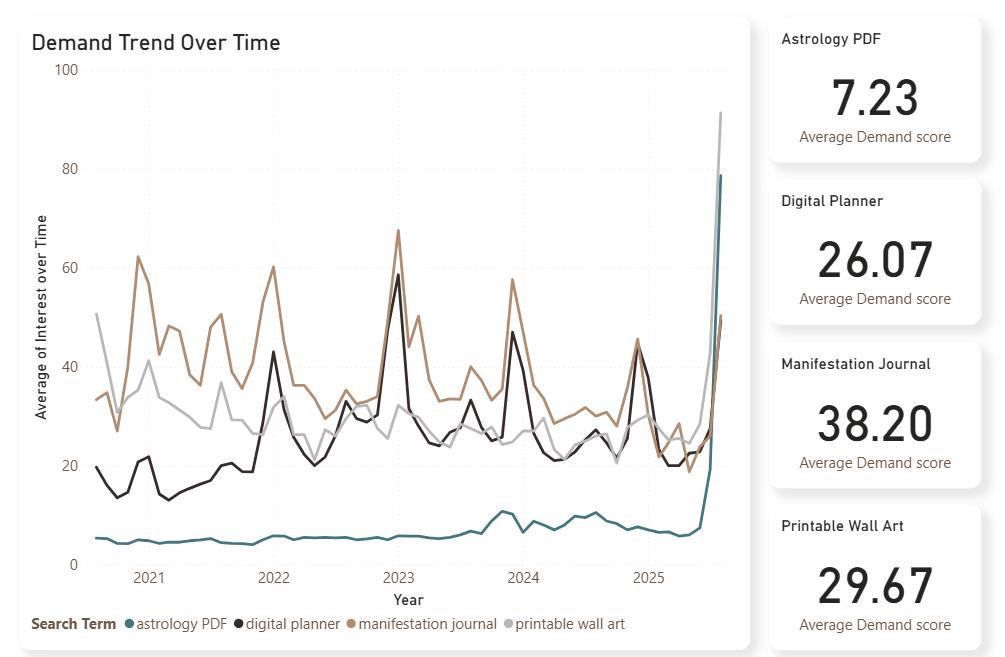

This screenshot's page, from the dashboard's own definition file:
{"tool":"powerbi","page":{"name":"Demand Analysis","canvas":[1280,720],"ordinal":1},"visuals":[{"type":"group","id":"g1","title":"Group 1","box":[931.6,25.9,228.6,683.9],"z":0,"group":"g2"},{"type":"card","title":"Astrology PDF","fields":{"Values":["Google Trends Data Table.Average Demand score"]},"box":[931.9,25.9,228.6,157.1],"z":0,"group":"g1"},{"type":"lineChart","title":"Demand Trend Over Time","fields":{"Y":["Avg(Google Trends Data Table.Interest over Time)"],"Series":["Google Trends Data Table.Search Term"],"Category":["Google Trends Data Table.Week.Variation.Date Hierarchy.Year","Google Trends Data Table.Week.Variation.Date Hierarchy.Month"]},"box":[121.4,26.5,788.3,683.3],"z":1000,"group":"g2"},{"type":"card","title":"Digital Planner","fields":{"Values":["Google Trends Data Table.Average Demand score"]},"box":[931.6,201.5,228.6,157.1],"z":1000,"group":"g1"},{"type":"group","id":"g2","title":"Group 2","box":[121.4,25.9,1037.9,683.3],"z":1001},{"type":"card","title":"Manifestation Journal","fields":{"Values":["Google Trends Data Table.Average Demand score"]},"box":[931.6,377.1,228.6,157.1],"z":2000,"group":"g1"},{"type":"card","title":"Printable Wall Art","fields":{"Values":["Google Trends Data Table.Average Demand score"]},"box":[931.6,552.7,228.6,157.1],"z":3000,"group":"g1"}]}

Visuals, with their boxes on the page's 1280x720 design canvas (x1, y1, x2, y2). These are canvas units, not pixel positions in the 1005x657 screenshot, which may show the page scaled, cropped or inside an application window:
"Group 1" group: box(932, 26, 1160, 710)
"Astrology PDF" card: box(932, 26, 1160, 183)
"Demand Trend Over Time" lineChart: box(121, 26, 910, 710)
"Digital Planner" card: box(932, 202, 1160, 359)
"Group 2" group: box(121, 26, 1159, 709)
"Manifestation Journal" card: box(932, 377, 1160, 534)
"Printable Wall Art" card: box(932, 553, 1160, 710)
